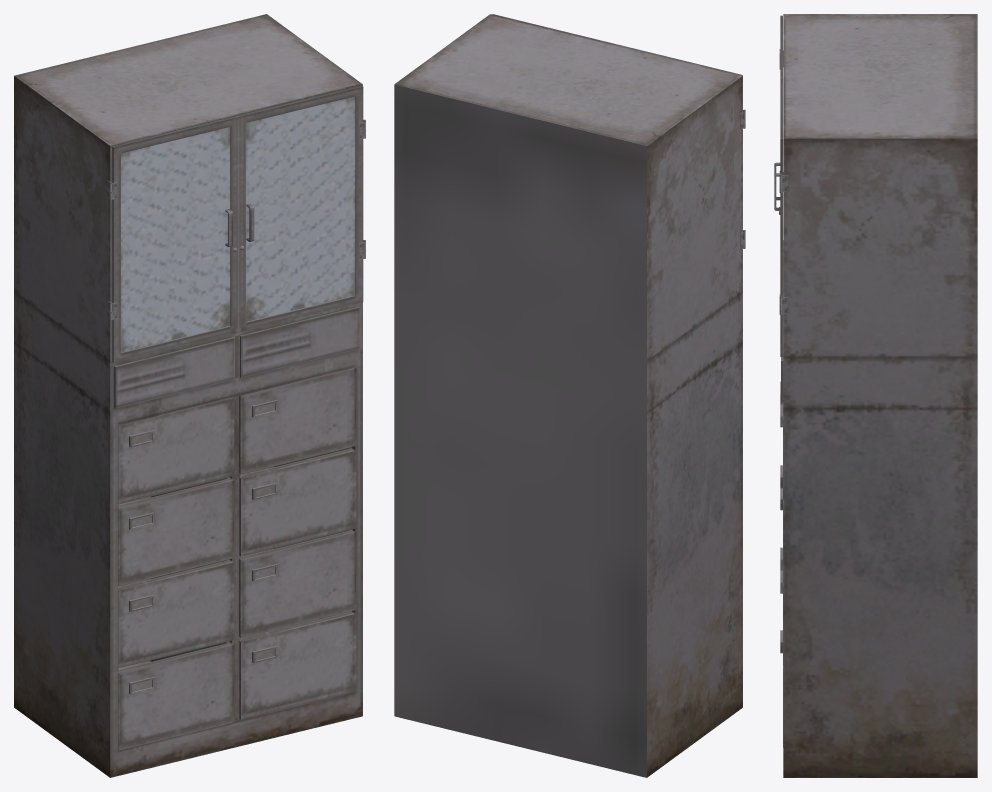
The model's file is 009_CameraCabinet.fbx.
3 views of the same model, side by side, from view 1: azimuth 30°, elevation 25°; view 2: azimuth 150°, elevation 25°; view 3: azimuth 270°, elevation 25° (orthographic).
Visible parts, largest first — view 1: LOD_1_Group_0_Sub_1__sm30_009_CameraCabinet01A_A_Mat, LOD_1_Group_13_Sub_1__sm30_009_CameraCabinet01A_A_Mat__Env_A, LOD_1_Group_14_Sub_1__sm30_009_CameraCabinet01A_A_Mat__Env_A, LOD_1_Group_6_Sub_1__sm30_009_CameraCabinet01A_A_Mat, LOD_1_Group_11_Sub_1__sm30_009_CameraCabinet01A_A_Mat, LOD_1_Group_10_Sub_1__sm30_009_CameraCabinet01A_A_Mat, LOD_1_Group_12_Sub_1__sm30_009_CameraCabinet01A_A_Mat, LOD_1_Group_9_Sub_1__sm30_009_CameraCabinet01A_A_Mat, LOD_1_Group_7_Sub_1__sm30_009_CameraCabinet01A_A_Mat, LOD_1_Group_8_Sub_1__sm30_009_CameraCabinet01A_A_Mat, LOD_1_Group_5_Sub_1__sm30_009_CameraCabinet01A_A_Mat, LOD_1_Group_1_Sub_1__sm30_009_CameraCabinet01A_A_Mat (+3 smaller); view 2: LOD_1_Group_0_Sub_1__sm30_009_CameraCabinet01A_A_Mat; view 3: LOD_1_Group_0_Sub_1__sm30_009_CameraCabinet01A_A_Mat, LOD_1_Group_2_Sub_1__sm30_009_CameraCabinet01A_A_Mat.
Part boxes in pixels (x1,y1,x2,y2): LOD_1_Group_0_Sub_1__sm30_009_CameraCabinet01A_A_Mat: (14, 14, 365, 777); LOD_1_Group_13_Sub_1__sm30_009_CameraCabinet01A_A_Mat__Env_A: (121, 127, 230, 352); LOD_1_Group_14_Sub_1__sm30_009_CameraCabinet01A_A_Mat__Env_A: (246, 96, 355, 321); LOD_1_Group_6_Sub_1__sm30_009_CameraCabinet01A_A_Mat: (239, 448, 356, 556); LOD_1_Group_11_Sub_1__sm30_009_CameraCabinet01A_A_Mat: (118, 641, 234, 750); LOD_1_Group_10_Sub_1__sm30_009_CameraCabinet01A_A_Mat: (239, 611, 356, 719); LOD_1_Group_12_Sub_1__sm30_009_CameraCabinet01A_A_Mat: (239, 529, 356, 637); LOD_1_Group_9_Sub_1__sm30_009_CameraCabinet01A_A_Mat: (118, 559, 234, 668); LOD_1_Group_7_Sub_1__sm30_009_CameraCabinet01A_A_Mat: (118, 477, 234, 585); LOD_1_Group_8_Sub_1__sm30_009_CameraCabinet01A_A_Mat: (239, 368, 356, 473); LOD_1_Group_5_Sub_1__sm30_009_CameraCabinet01A_A_Mat: (118, 397, 234, 503); LOD_1_Group_1_Sub_1__sm30_009_CameraCabinet01A_A_Mat: (109, 116, 238, 362); LOD_1_Group_0_Sub_1__sm30_009_CameraCabinet01A_A_Mat: (394, 14, 745, 777); LOD_1_Group_0_Sub_1__sm30_009_CameraCabinet01A_A_Mat: (779, 14, 977, 777); LOD_1_Group_2_Sub_1__sm30_009_CameraCabinet01A_A_Mat: (774, 77, 782, 356).
Bounding box in the file's own units: 0.9166 × 2.16 × 0.6235.
